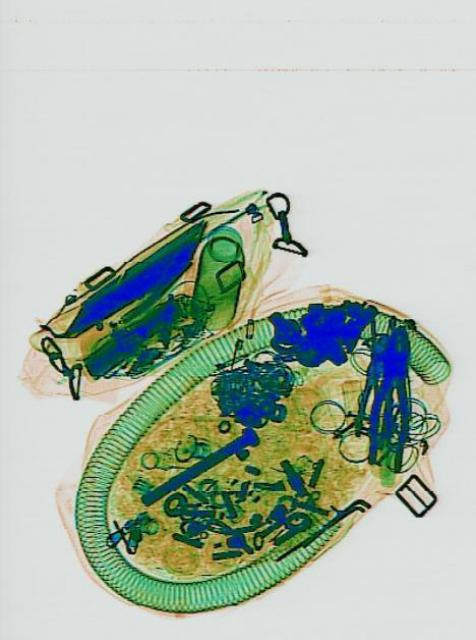Pliers: (361, 321, 419, 473), (350, 329, 399, 443)
